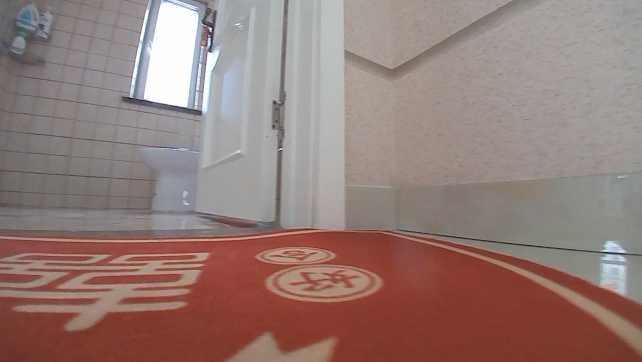blanket: (0, 225, 639, 361)
door_anno: (193, 0, 355, 230)
toilet: (135, 140, 199, 215)
